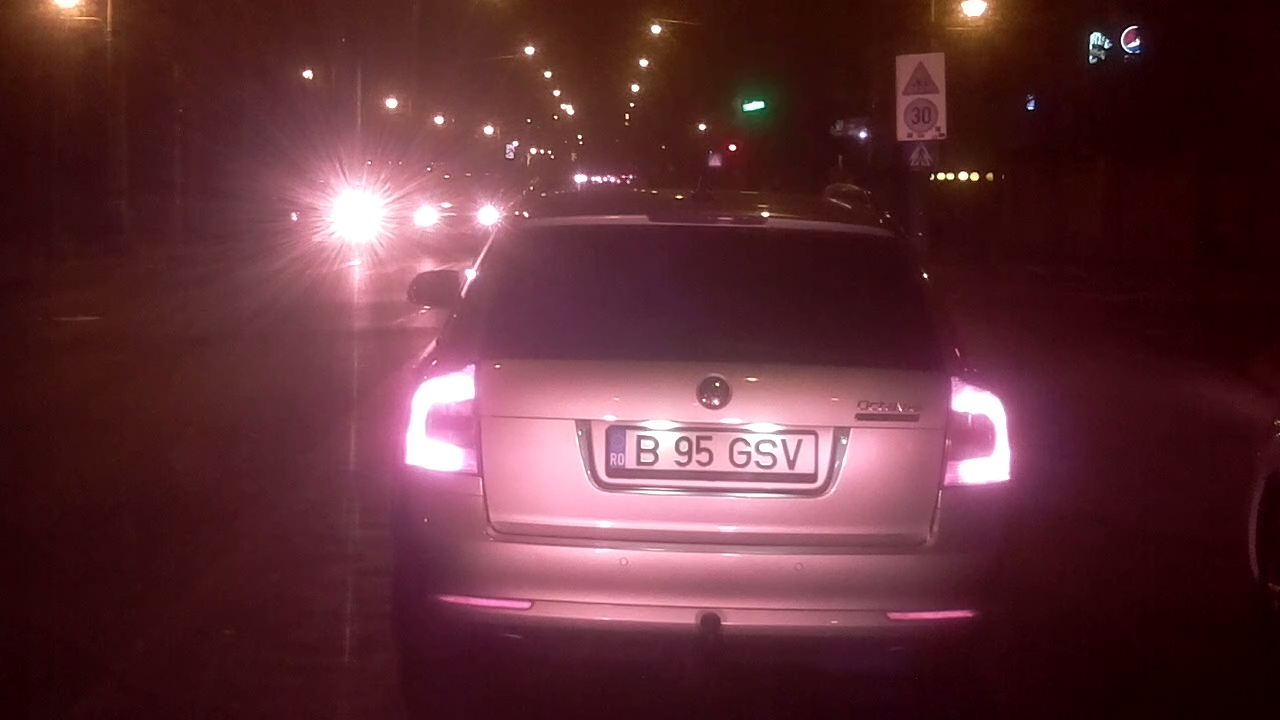license-plate: (599, 418, 823, 484)
